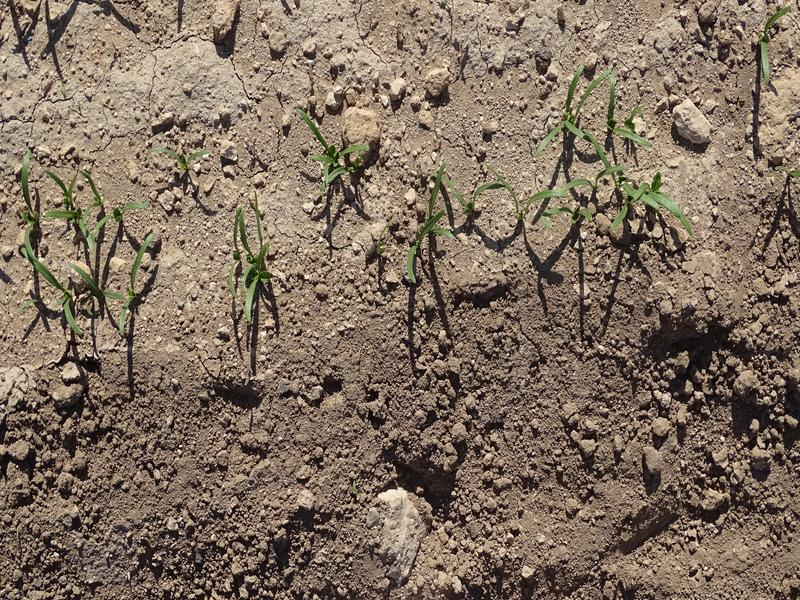Espinaca: (535, 66, 695, 237), (17, 162, 159, 335), (407, 161, 469, 277), (228, 197, 272, 313), (296, 109, 362, 184), (480, 178, 562, 216), (753, 5, 792, 77)
